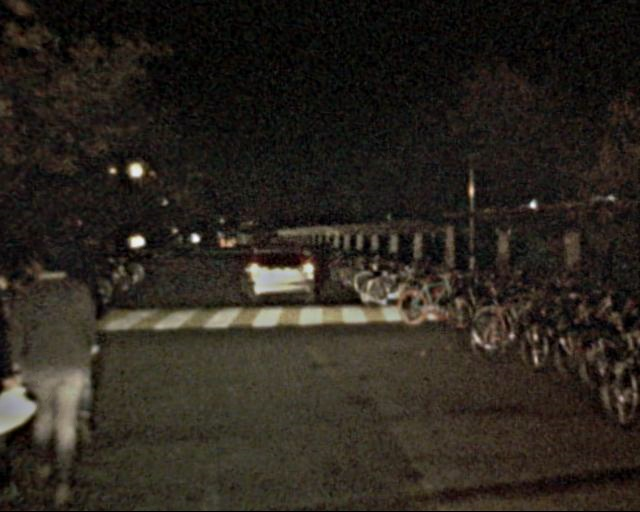person: (1, 239, 116, 501)
